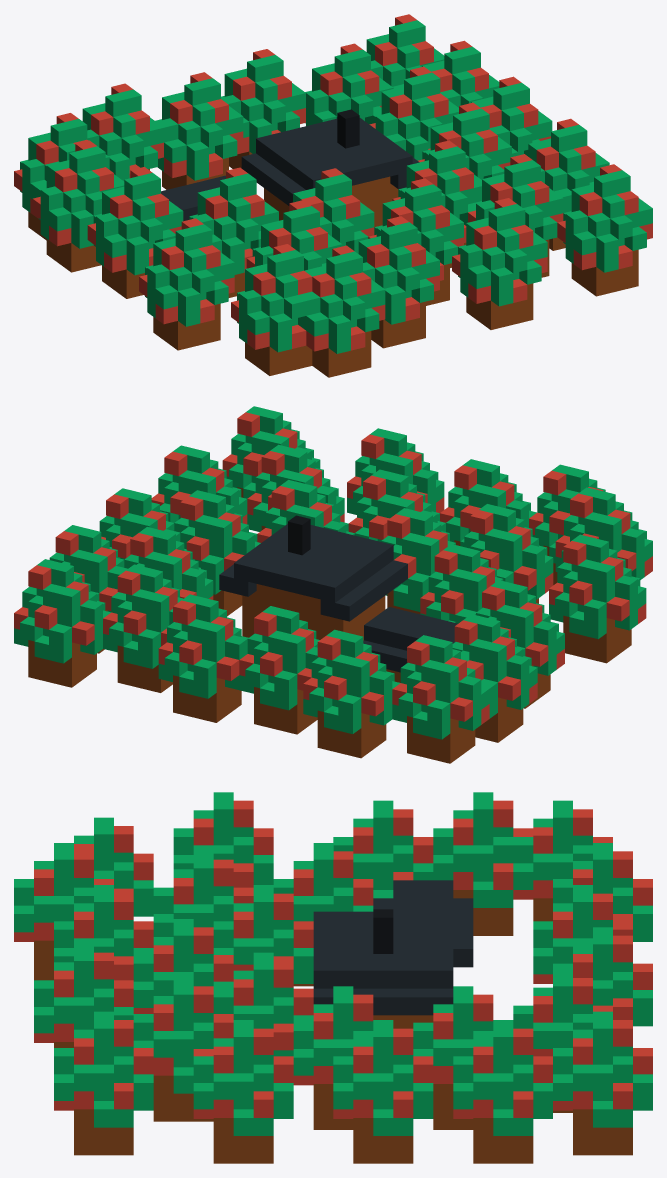
The model's file is Lumber.obj.
The picture shows the model from 3 angles, top to bottom: view 1: azimuth 30°, elevation 25°; view 2: azimuth 150°, elevation 25°; view 3: azimuth 270°, elevation 25°; orthographic projection. The views are drawn at different scales.
Bounding box in the file's own units: 3.2 × 0.8 × 3.2.
1 material, 1 textured.
